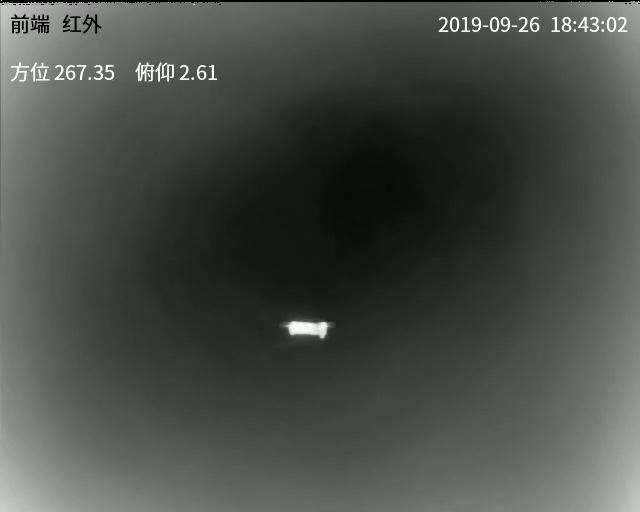uav: (270, 316, 329, 342)
